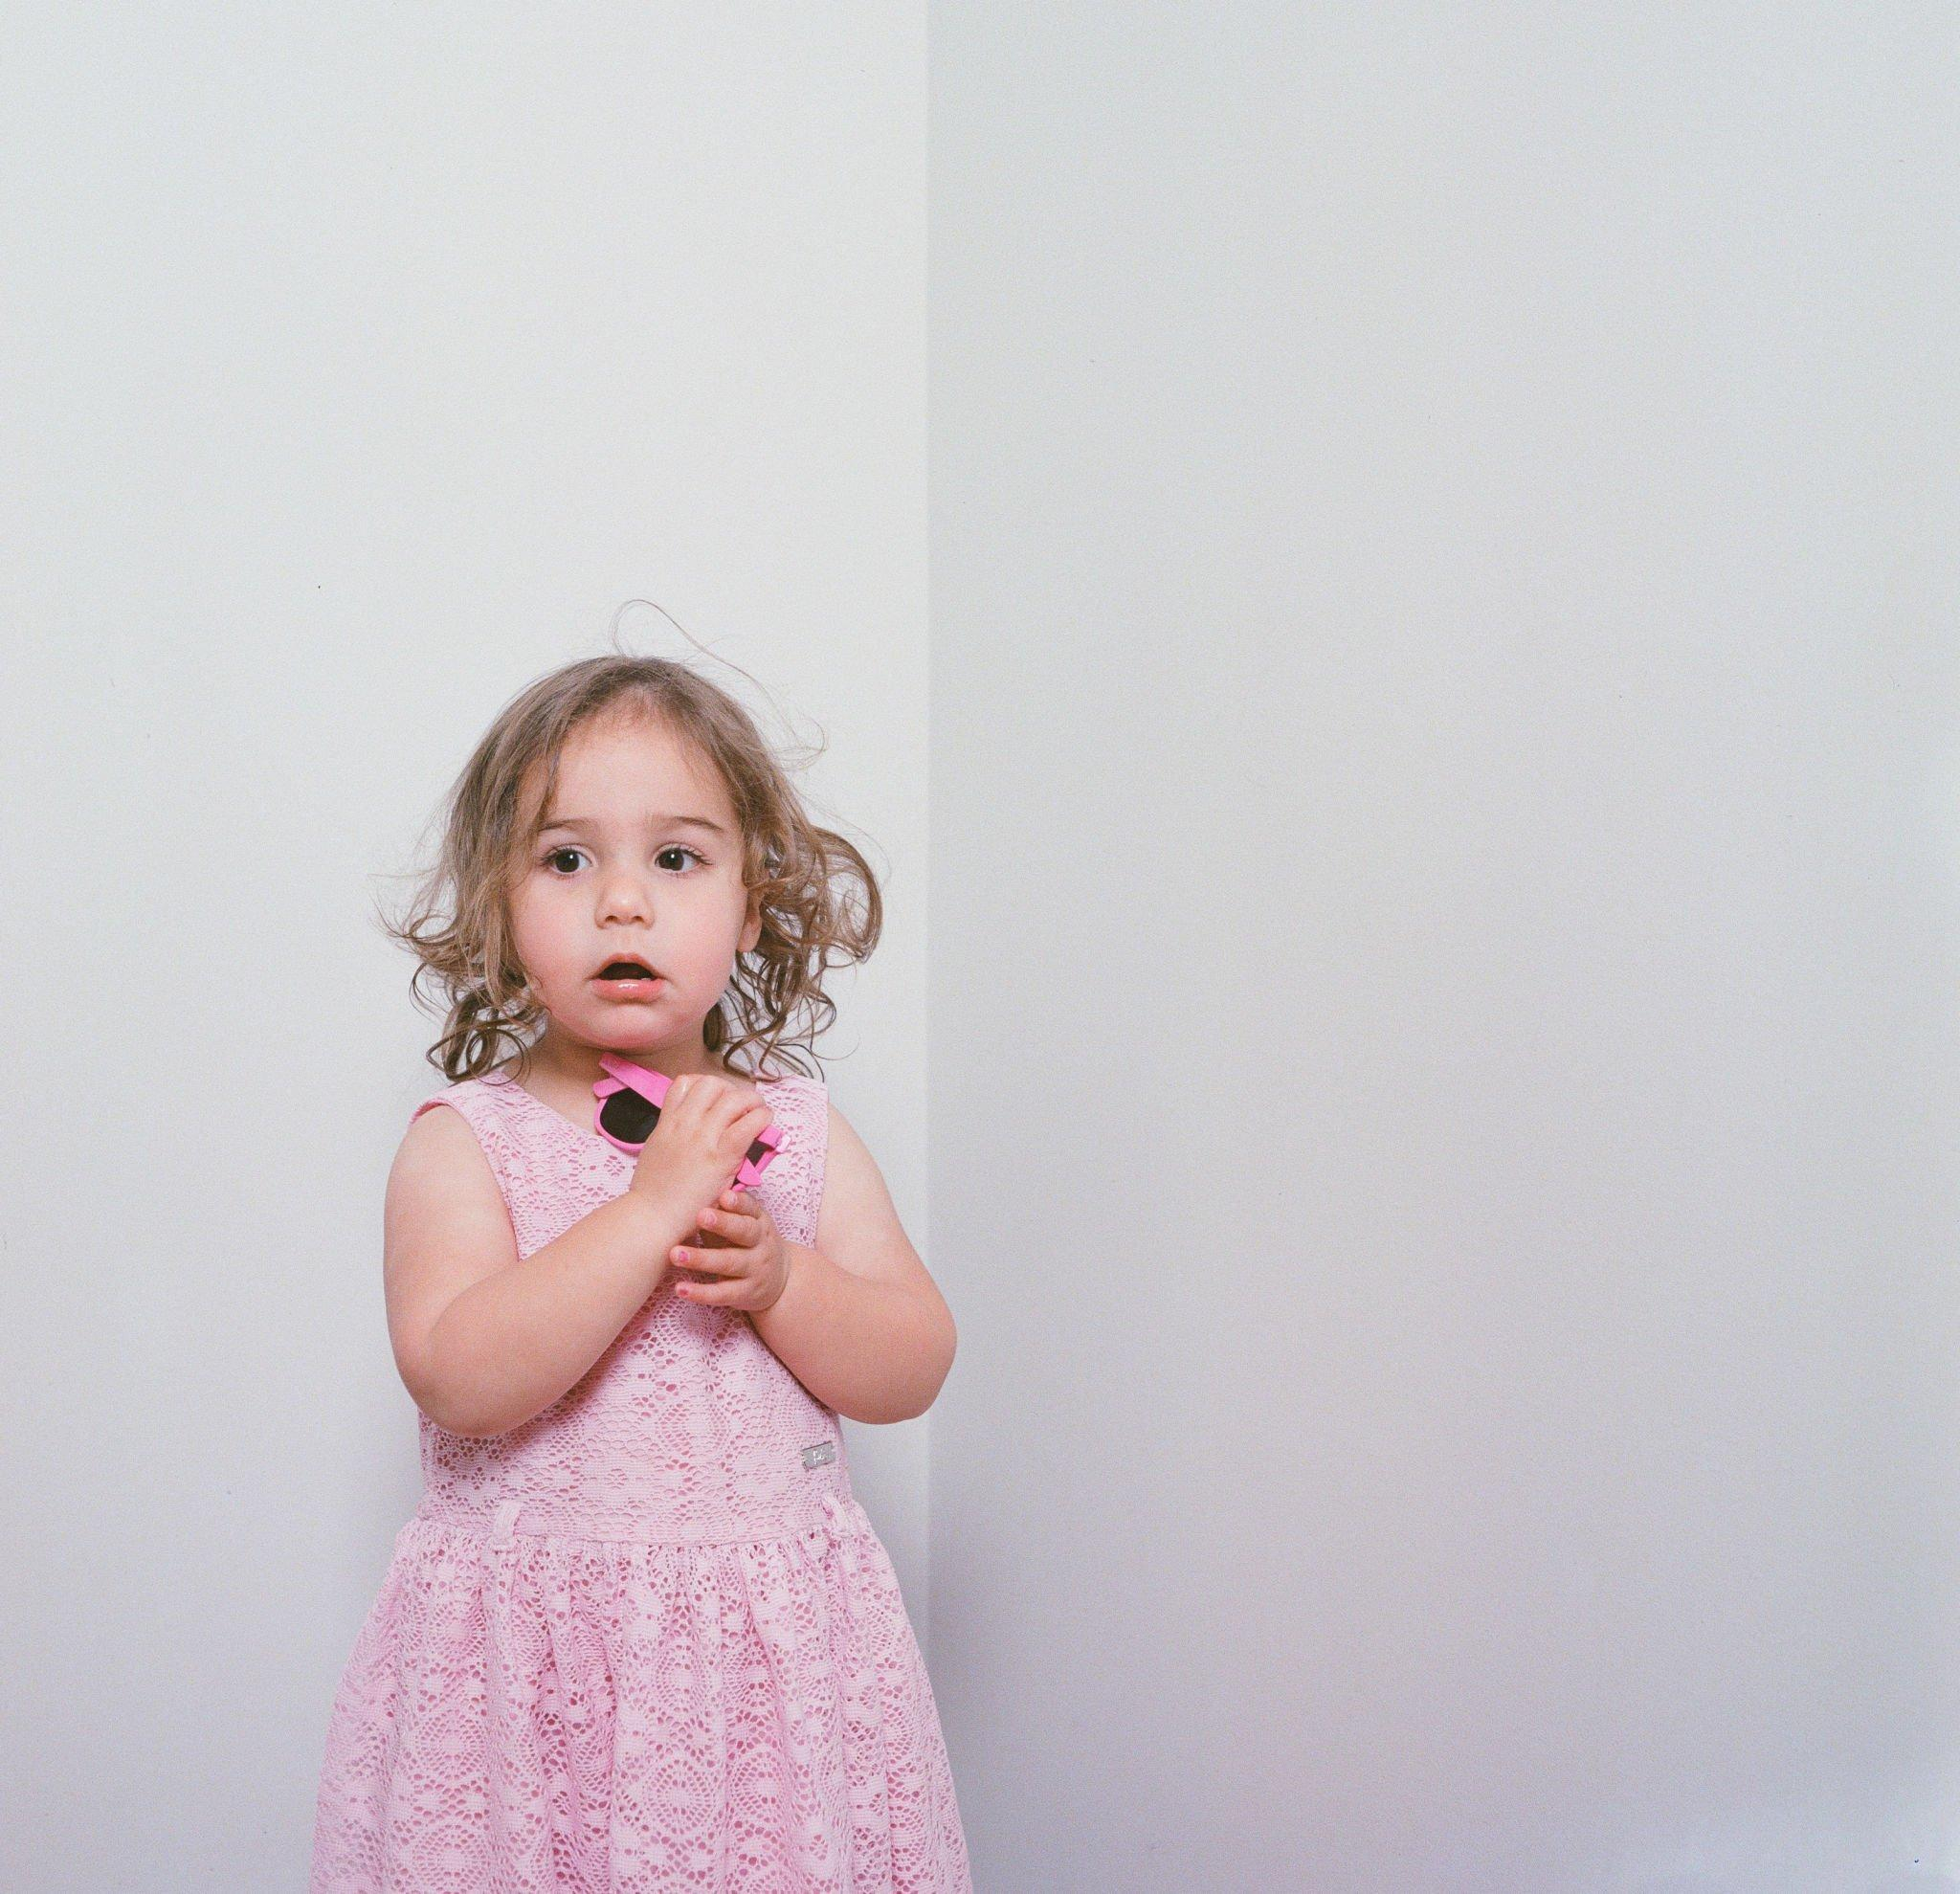Healthy: (418, 585, 819, 1096)
